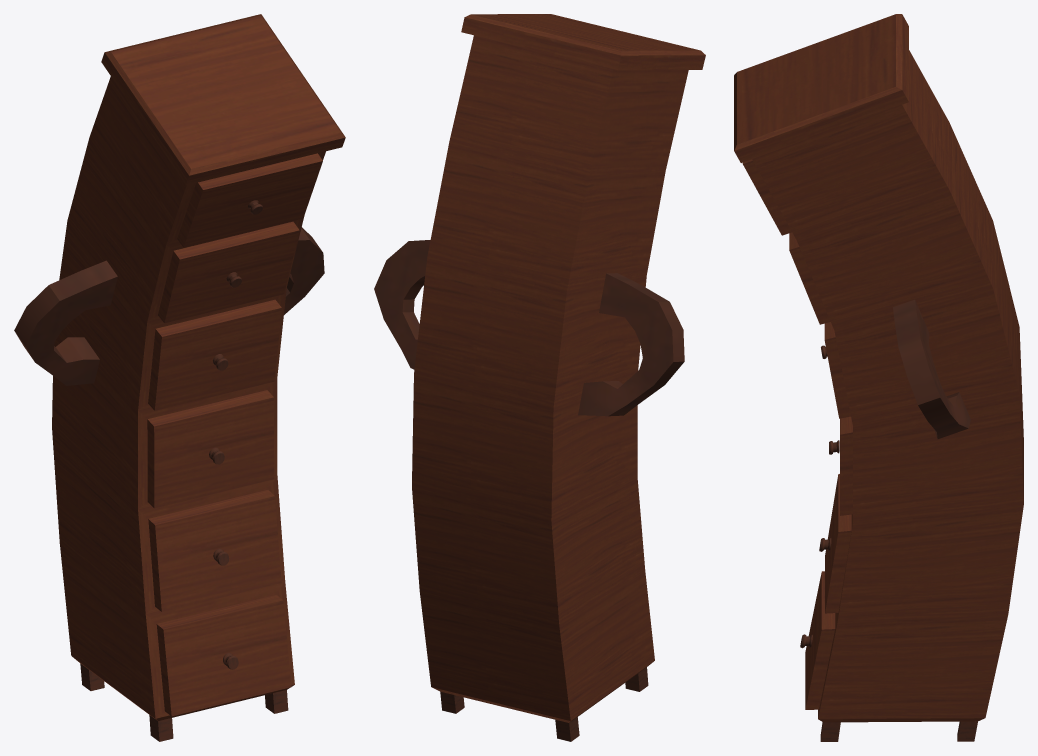
File: Cabinet_variation_1.fbx
3 views of the same model, side by side, from view 1: azimuth 30°, elevation 25°; view 2: azimuth 150°, elevation 25°; view 3: azimuth 270°, elevation 25° (orthographic).
Parts seen in each view (by area): view 1: Cabinet_Variation_1; view 2: Cabinet_Variation_1; view 3: Cabinet_Variation_1.
Part boxes in pixels (x1=…): Cabinet_Variation_1: x1=14, y1=14, x2=345, y2=741; Cabinet_Variation_1: x1=374, y1=14, x2=705, y2=741; Cabinet_Variation_1: x1=734, y1=14, x2=1023, y2=741.
Size of the model in its own units: 429 by 911 by 362.
